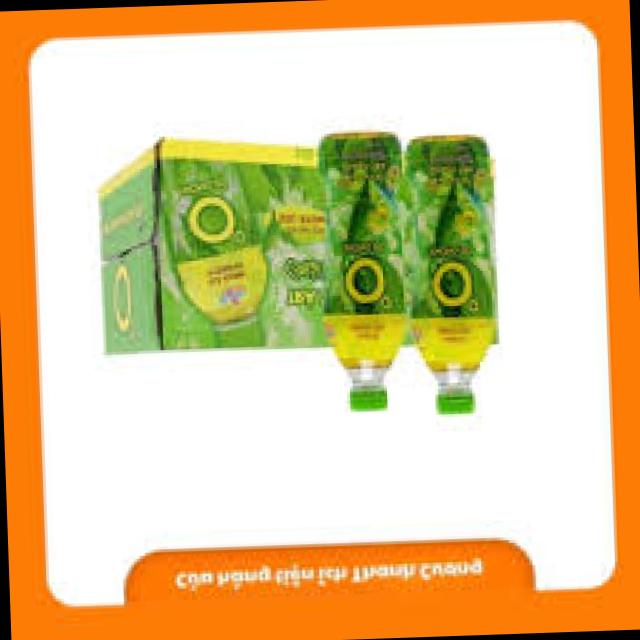tra xanh khong do: (394, 129, 508, 418), (314, 125, 414, 412)
